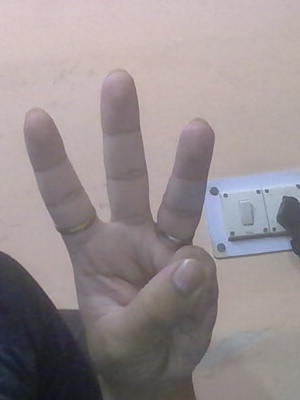W: (21, 59, 225, 379)
